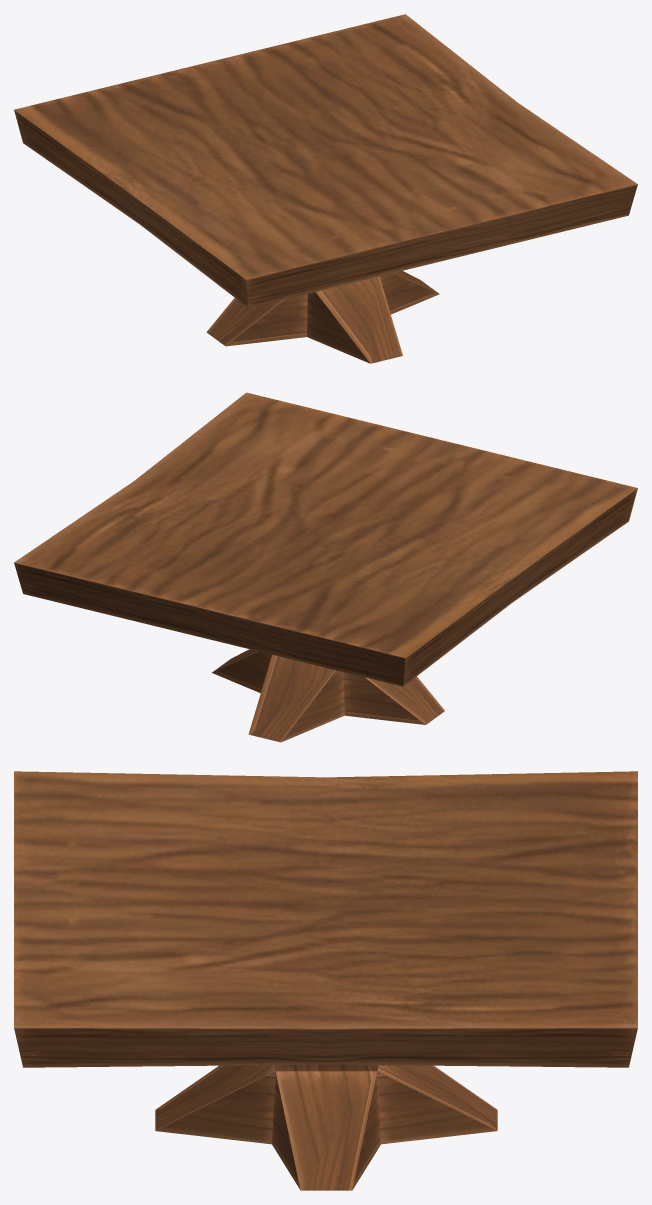
Rendered from dwarventablesimple04.obj.
3 views of the same model, one above another, from view 1: azimuth 30°, elevation 25°; view 2: azimuth 150°, elevation 25°; view 3: azimuth 270°, elevation 25° (orthographic). The views are drawn at different scales.
Visible parts, largest first — view 1: dwarventablesimple04; view 2: dwarventablesimple04; view 3: dwarventablesimple04.
Boxes of the visible parts, x1=… form: dwarventablesimple04: x1=14, y1=14, x2=637, y2=363; dwarventablesimple04: x1=14, y1=392, x2=637, y2=742; dwarventablesimple04: x1=14, y1=771, x2=637, y2=1190.
Size of the model in its own units: 2.17 by 0.8765 by 2.23.
1 material, 1 textured.
